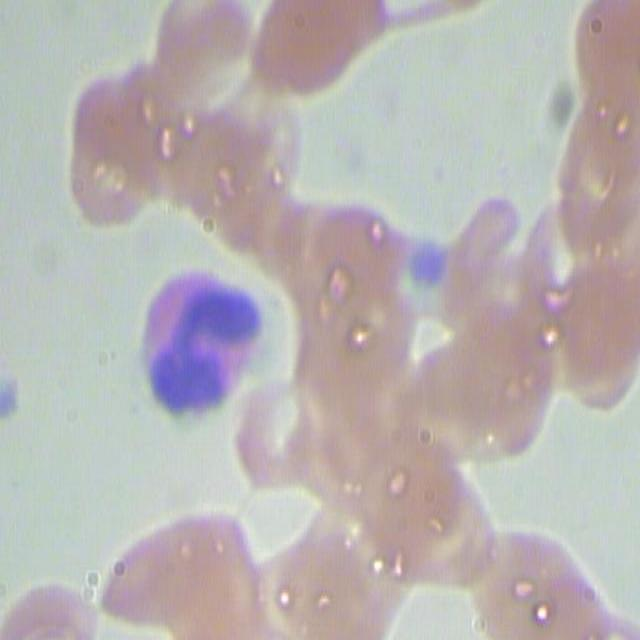RBC: (264, 212, 414, 394), (95, 512, 271, 640), (417, 339, 564, 454), (255, 525, 399, 640), (478, 517, 611, 640), (534, 112, 640, 266), (170, 92, 312, 206), (236, 0, 391, 103), (68, 71, 166, 230), (349, 446, 474, 550), (228, 390, 342, 494), (142, 0, 254, 99), (565, 270, 640, 401), (564, 3, 640, 125), (2, 573, 97, 640)
WBC: (118, 246, 270, 446)
platelets: (406, 232, 454, 292), (0, 371, 21, 418)
